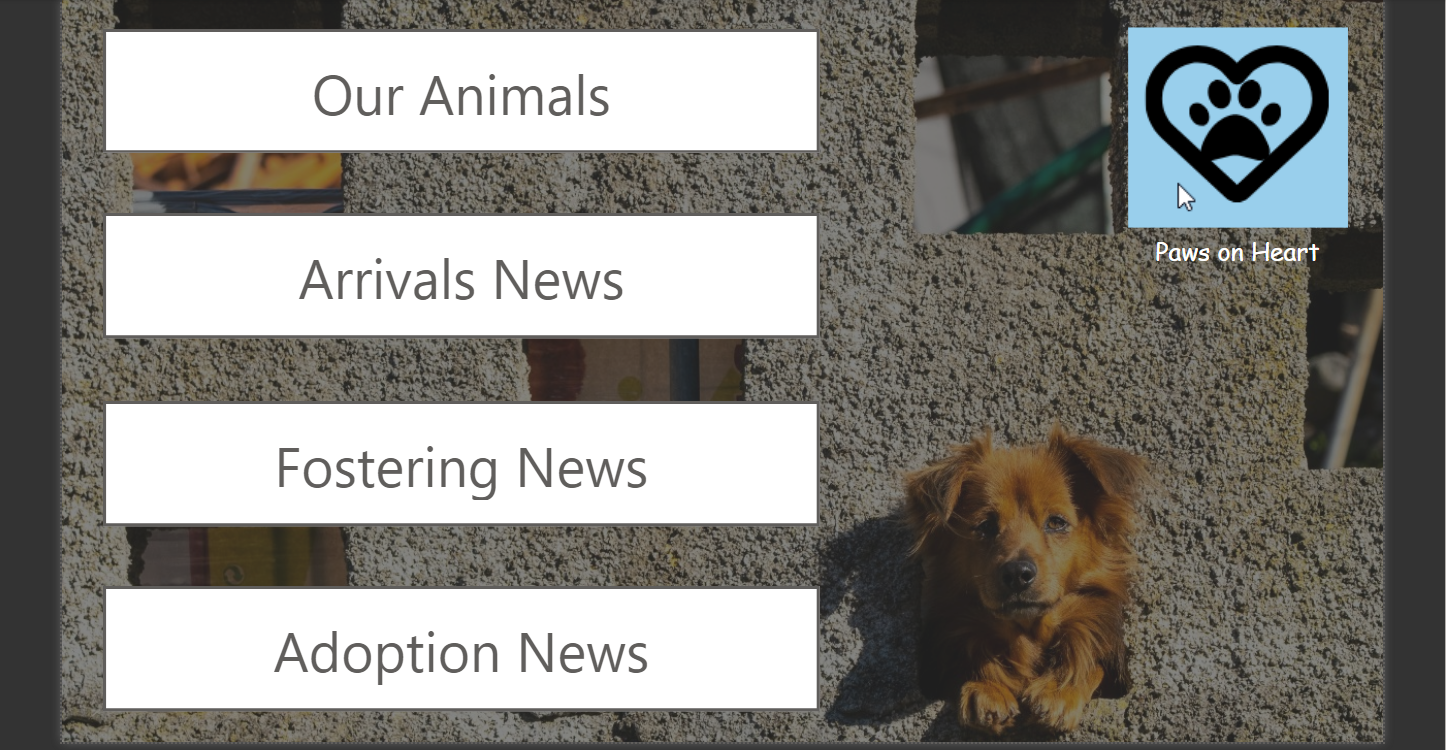

The page's visual inventory and layout, read from the dashboard file:
{"tool":"powerbi","page":{"name":"Landing Page","canvas":[1280,720],"ordinal":0},"visuals":[{"type":"image","box":[1027.9,13.8,222.5,221.5],"z":0,"group":"g1"},{"type":"actionButton","box":[39.4,29.3,694.6,120.5],"z":0},{"type":"actionButton","box":[39.4,207.1,694.6,121.6],"z":1000},{"type":"textbox","box":[1034.8,223.5,208.7,44.3],"z":1000,"group":"g1"},{"type":"actionButton","box":[39.4,389.5,694.6,121.6],"z":2000},{"type":"group","id":"g1","title":"Group 1","box":[1027.9,13.8,222.5,254],"z":3000},{"type":"actionButton","box":[39.4,568.5,694.6,121.6],"z":4000}]}

Visuals, with their boxes in screenshot pixels (x1, y1, x2, y2):
image: [x1=1115, y1=10, x2=1344, y2=238]
actionButton: [x1=101, y1=26, x2=814, y2=150]
actionButton: [x1=101, y1=209, x2=814, y2=334]
textbox: [x1=1122, y1=226, x2=1337, y2=271]
actionButton: [x1=101, y1=396, x2=814, y2=521]
"Group 1" group: [x1=1115, y1=10, x2=1344, y2=271]
actionButton: [x1=101, y1=580, x2=814, y2=705]
